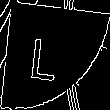L_N: (38, 28, 72, 82)
